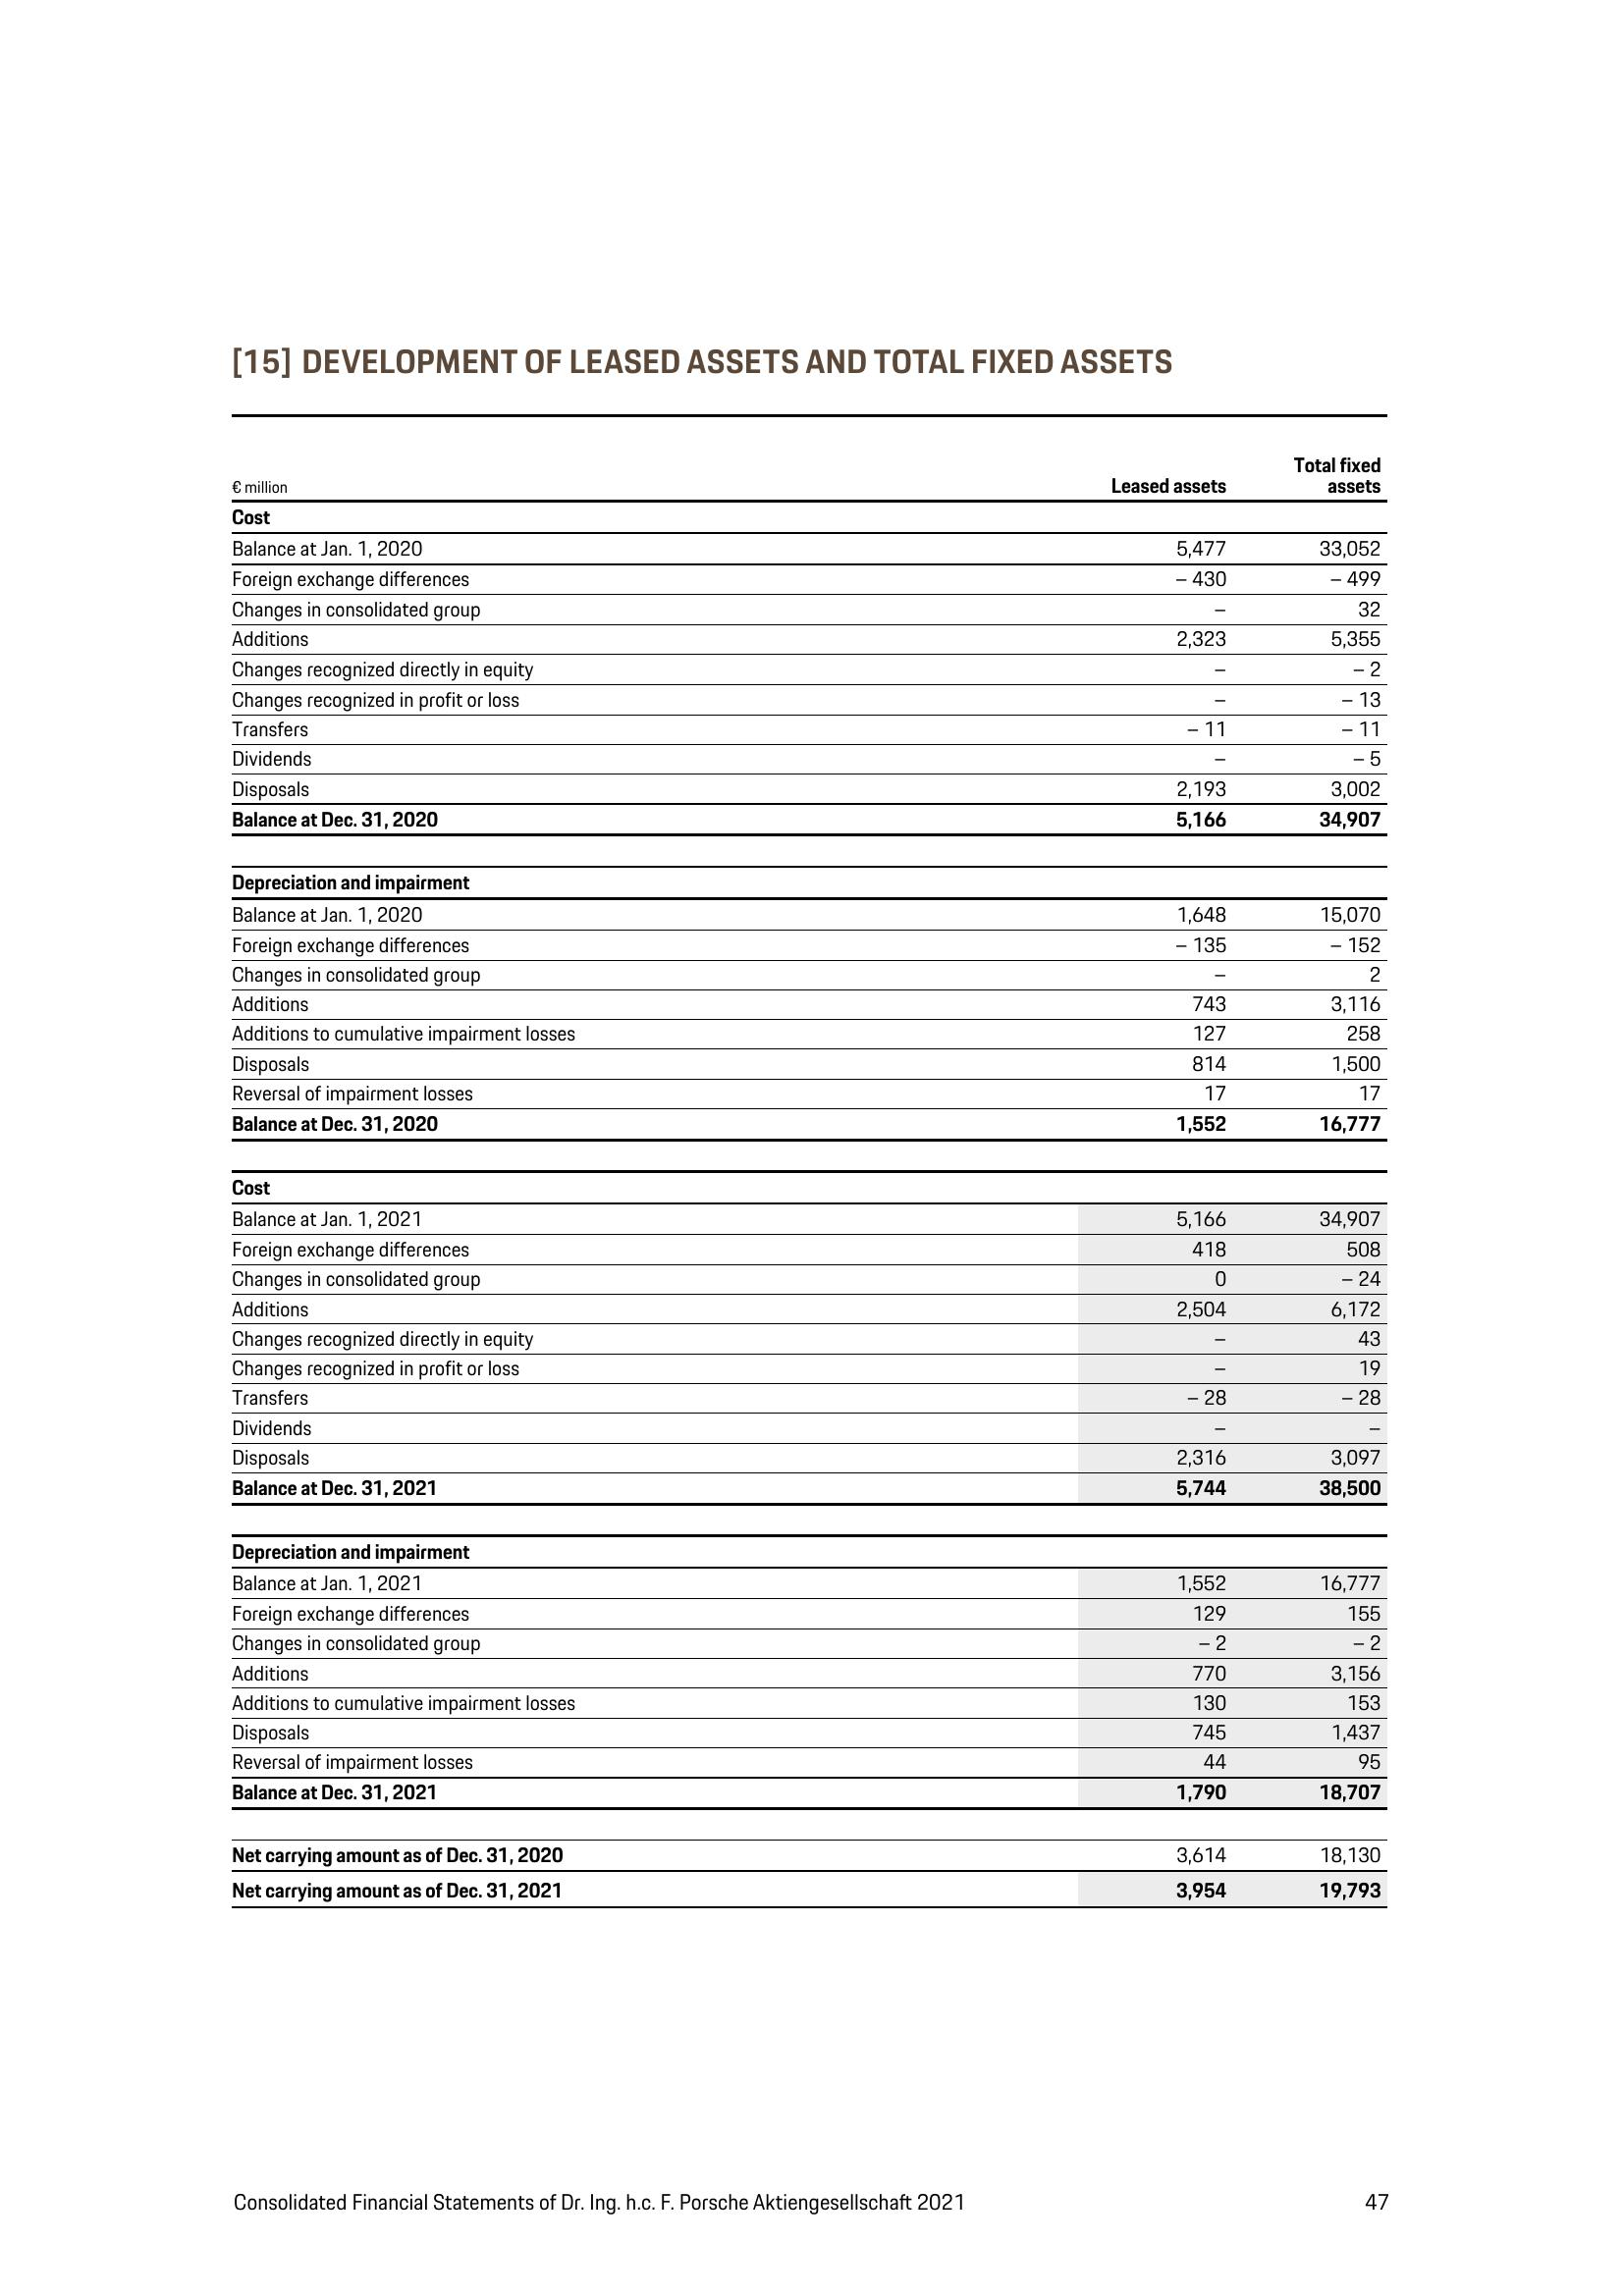Footer: (0, 2143, 1624, 2296)
Header: (0, 0, 1624, 193)
Table: (213, 408, 1394, 1934)
